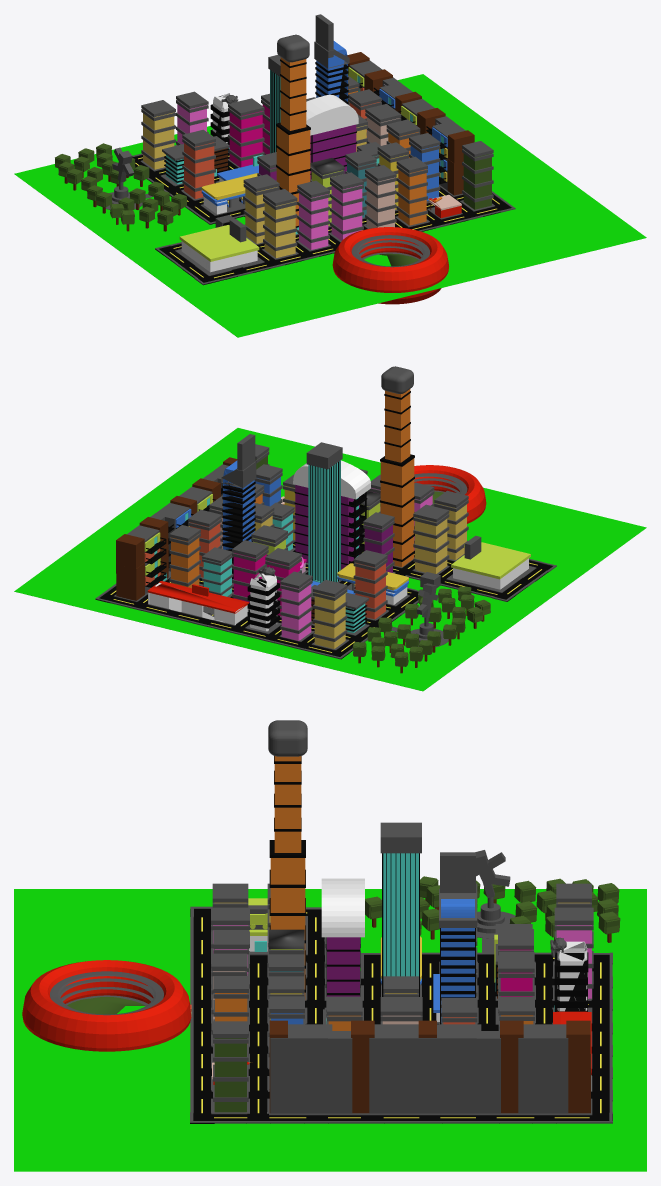
The model's file is NathanCity.glb.
3 renders of one model, top to bottom at view 1: azimuth 30°, elevation 25°; view 2: azimuth 150°, elevation 25°; view 3: azimuth 270°, elevation 25°, orthographic. The views are drawn at different scales.
Visible parts, largest first — view 1: city; view 2: city; view 3: city.
Boxes of the visible parts, x1,y1,x2,y2 form: city: [14, 14, 646, 337]; city: [14, 366, 646, 691]; city: [14, 720, 646, 1171].
Size of the model in its own units: 408 by 246 by 386.
